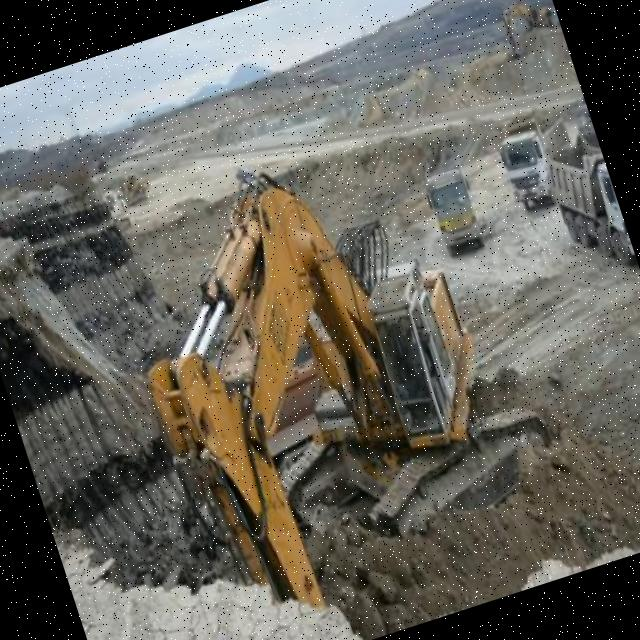Dump Truck: (544, 136, 640, 286), (492, 102, 588, 209), (420, 162, 486, 255)
Excavator: (89, 98, 581, 640), (497, 0, 561, 59)
